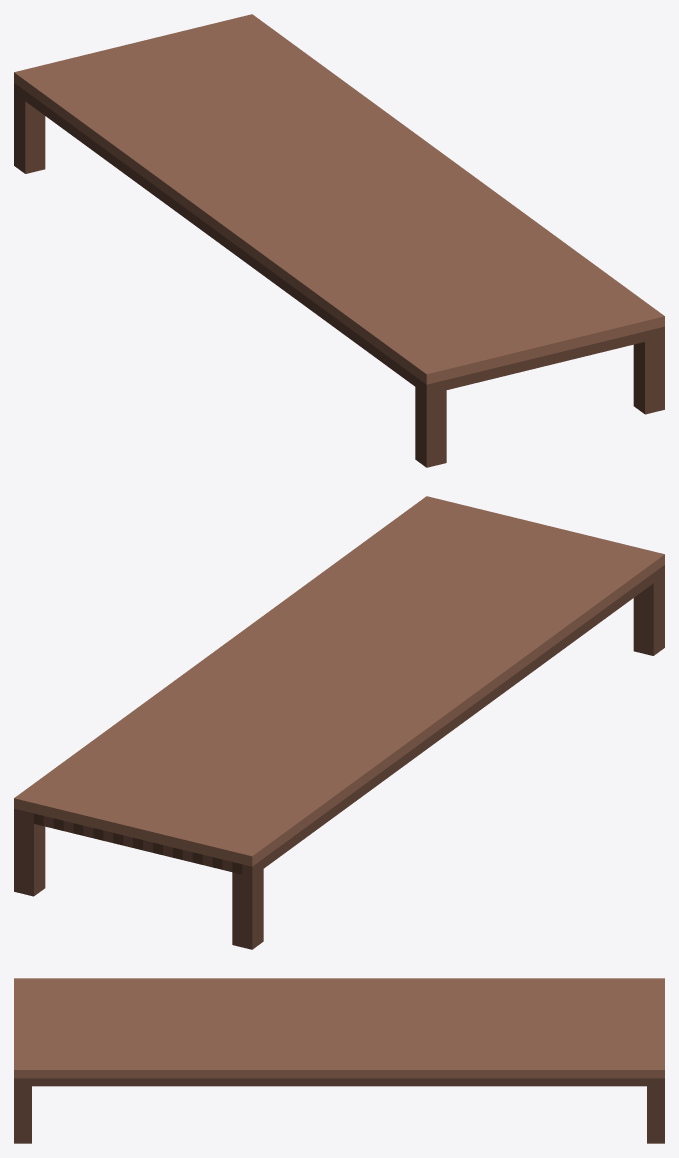
File: mesa_comedor_larga_caoba_tallada_01.glb
3 renders of one model, top to bottom at view 1: azimuth 30°, elevation 25°; view 2: azimuth 150°, elevation 25°; view 3: azimuth 270°, elevation 25°, orthographic. The views are drawn at different scales.
Parts seen in each view (by area): view 1: mesa_comedor_larga_caoba_tallada; view 2: mesa_comedor_larga_caoba_tallada; view 3: mesa_comedor_larga_caoba_tallada.
Boxes of the visible parts, x1=… form: mesa_comedor_larga_caoba_tallada: x1=14, y1=14, x2=664, y2=467; mesa_comedor_larga_caoba_tallada: x1=14, y1=496, x2=664, y2=949; mesa_comedor_larga_caoba_tallada: x1=14, y1=978, x2=664, y2=1143.
Bounding box in the file's own units: 2 × 0.75 × 6.
